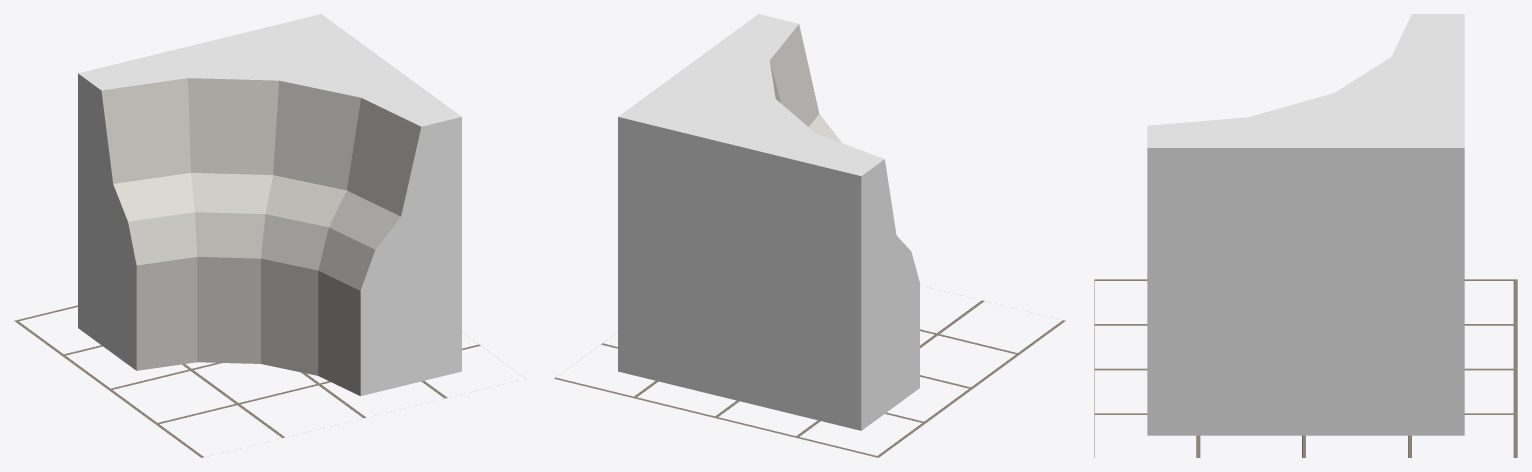
File: Basic_Curve_Inner_3x3_Base.glb
3 renders of one model, left to right at view 1: azimuth 30°, elevation 25°; view 2: azimuth 150°, elevation 25°; view 3: azimuth 270°, elevation 25°, orthographic. The views are drawn at different scales.
Parts seen in each view (by area): view 1: Basic_Curve_Inner_3x3_Base, Floor; view 2: Basic_Curve_Inner_3x3_Base, Floor; view 3: Basic_Curve_Inner_3x3_Base, Floor.
Part boxes in pixels (x1=…): Basic_Curve_Inner_3x3_Base: x1=78, y1=14, x2=461, y2=396; Floor: x1=14, y1=305, x2=525, y2=457; Basic_Curve_Inner_3x3_Base: x1=618, y1=14, x2=919, y2=430; Floor: x1=554, y1=300, x2=1065, y2=457; Basic_Curve_Inner_3x3_Base: x1=1147, y1=14, x2=1464, y2=435; Floor: x1=1094, y1=279, x2=1517, y2=457.
Bounding box in the file's own units: 400 × 300 × 400.
3 materials, 1 textured.
